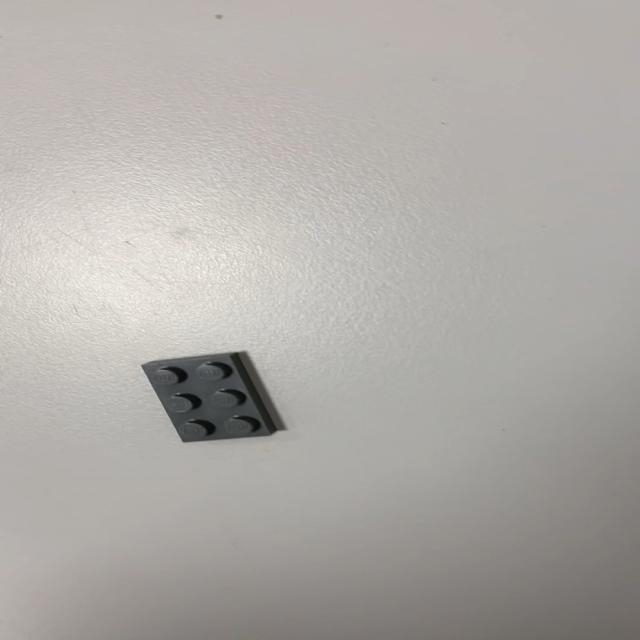C3x2x0: (139, 351, 279, 443)
